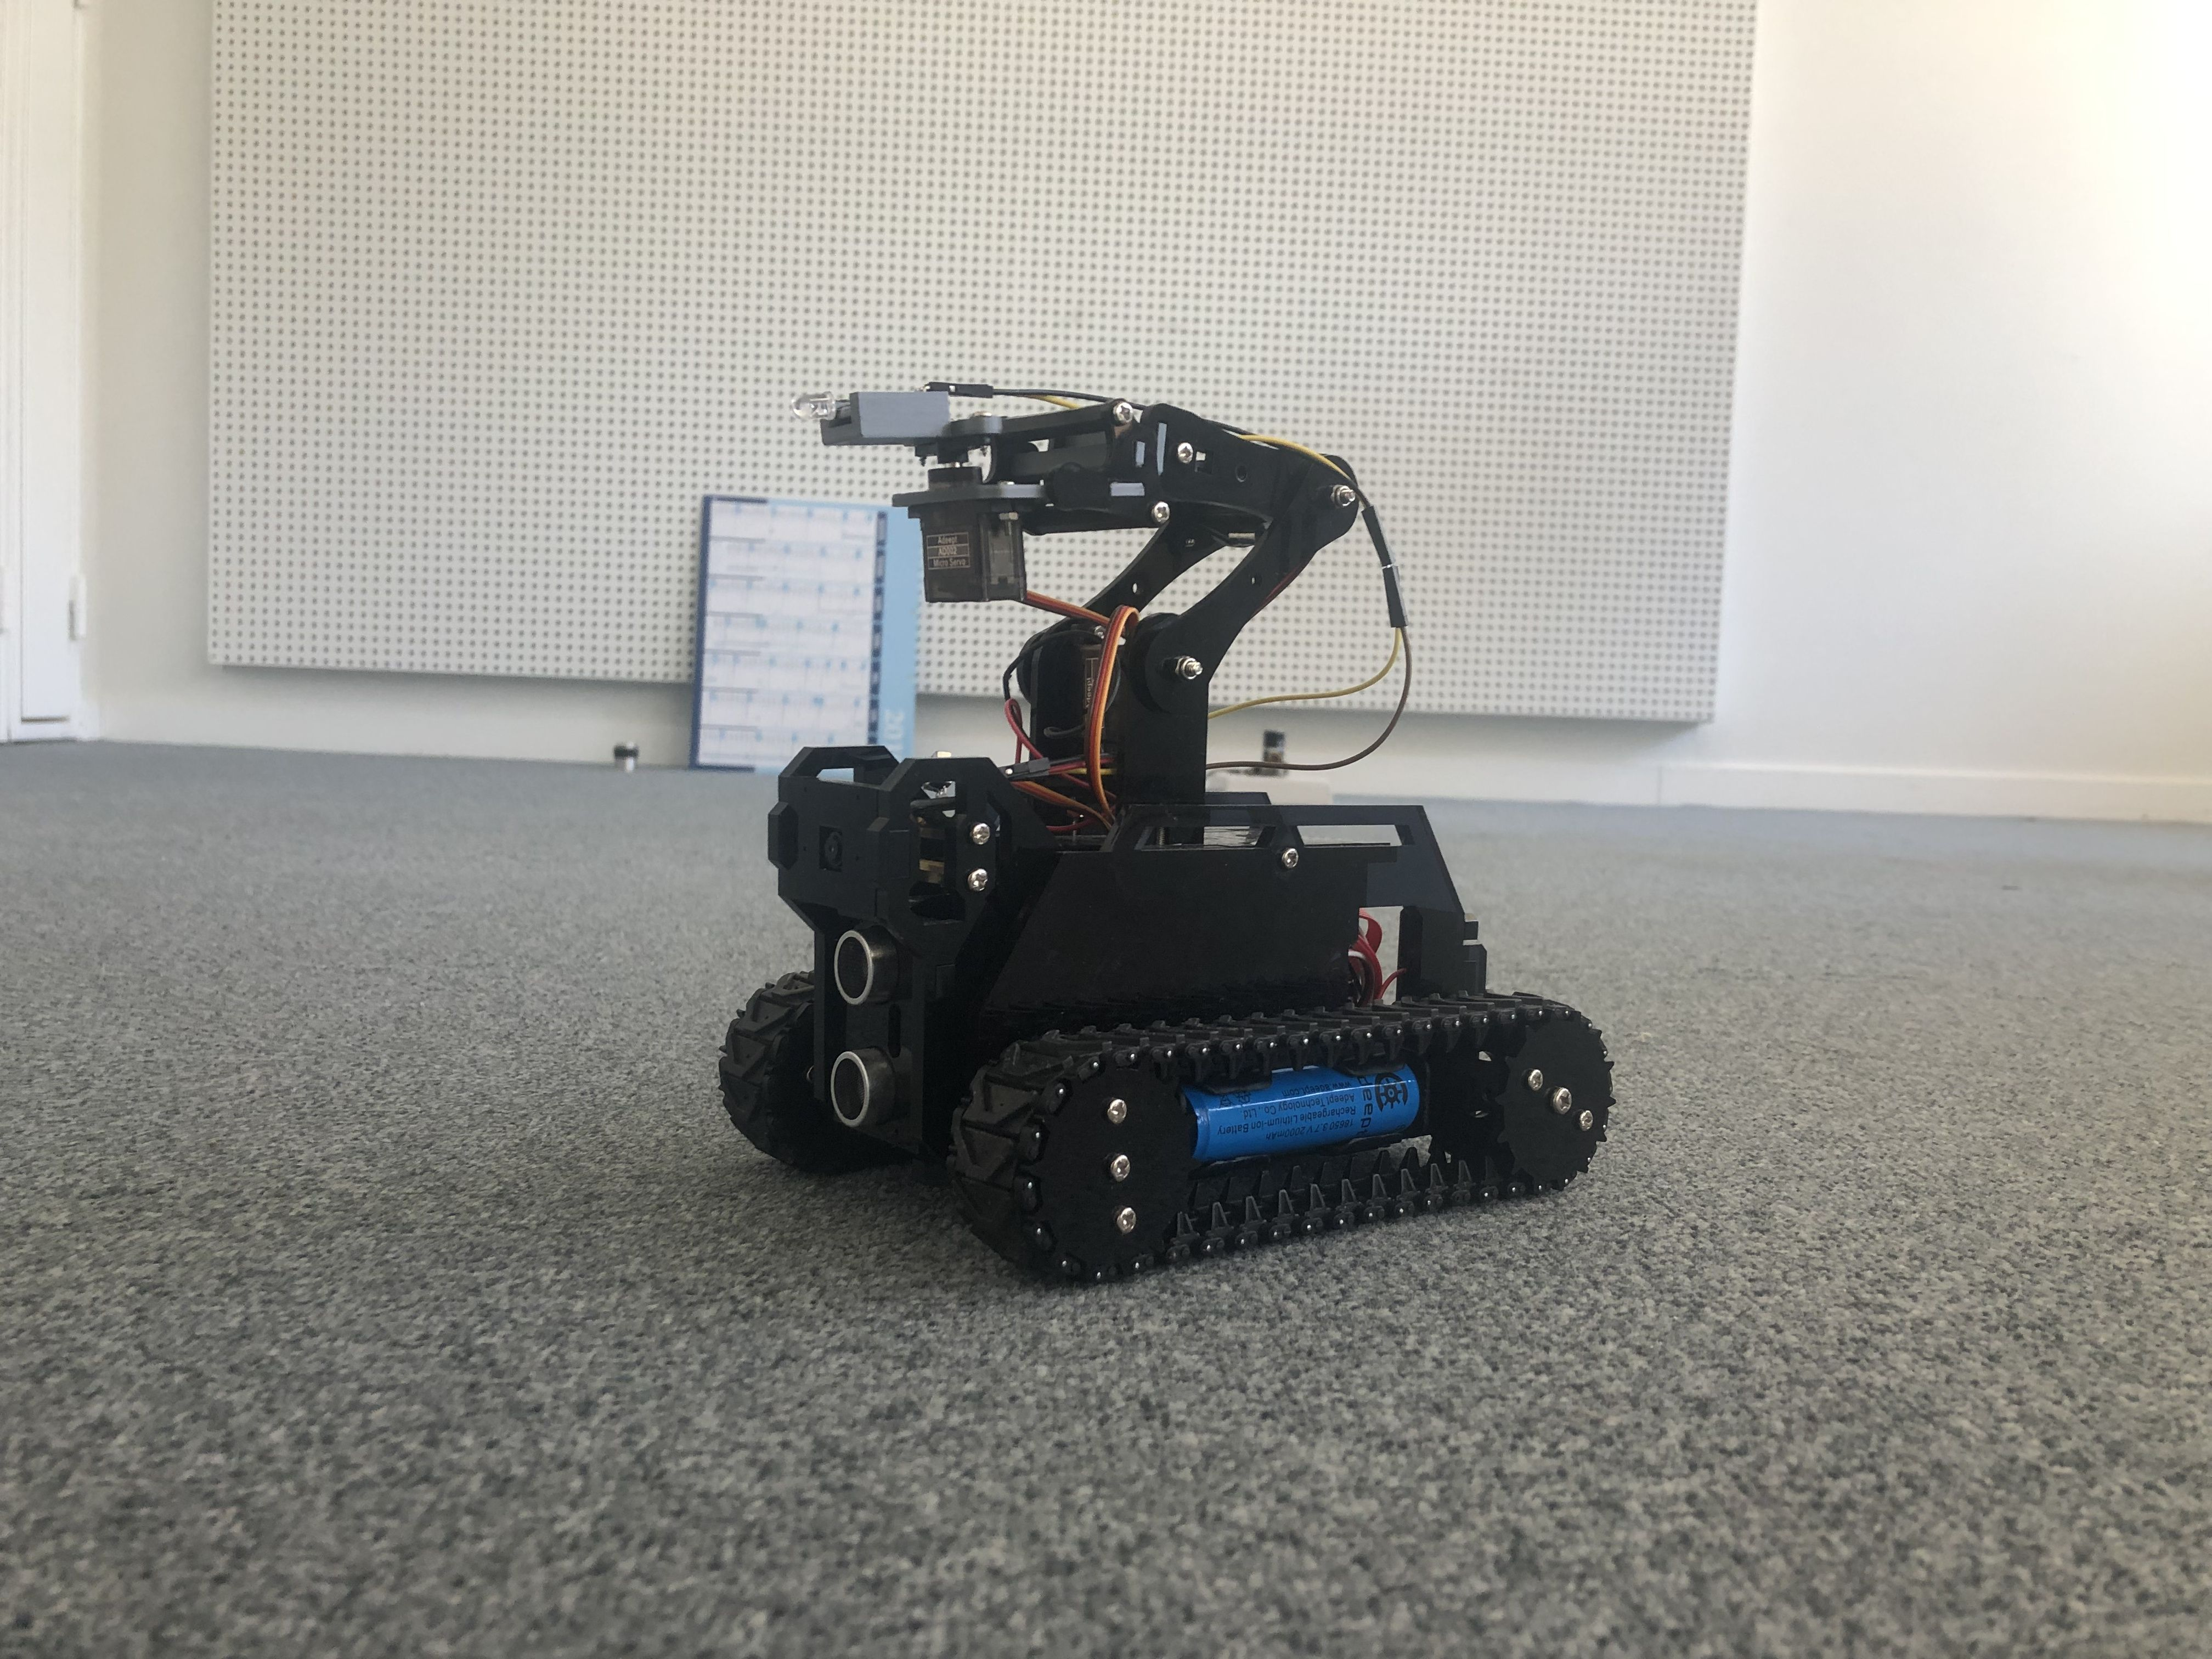rasptank: (707, 359, 1639, 1297)
